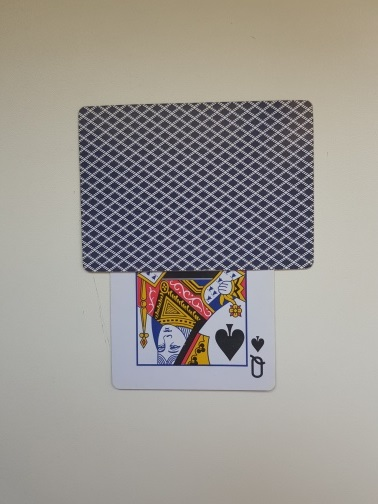queen: (109, 149, 277, 393)
